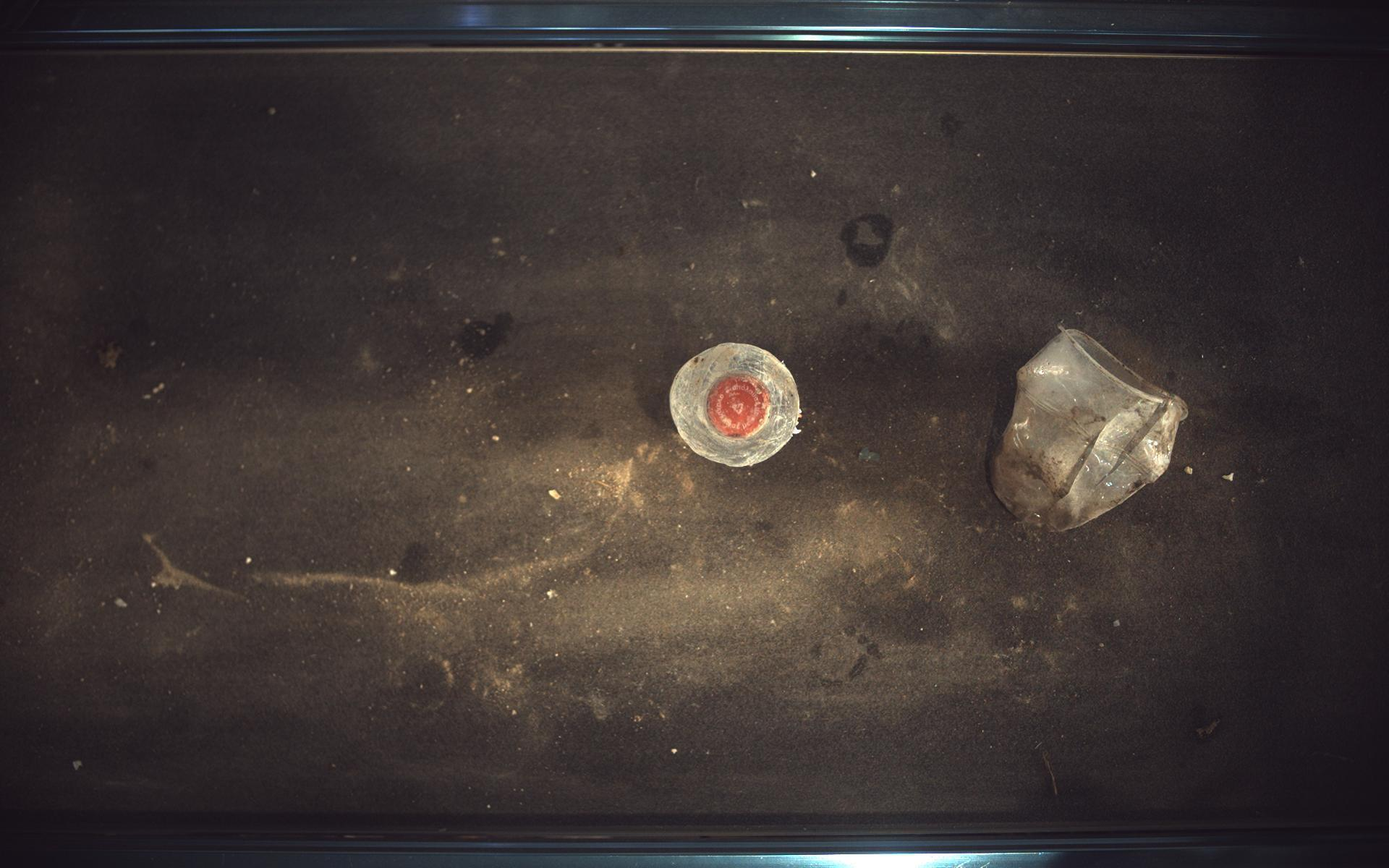general_w: (993, 326, 1191, 532), (671, 342, 802, 467)
